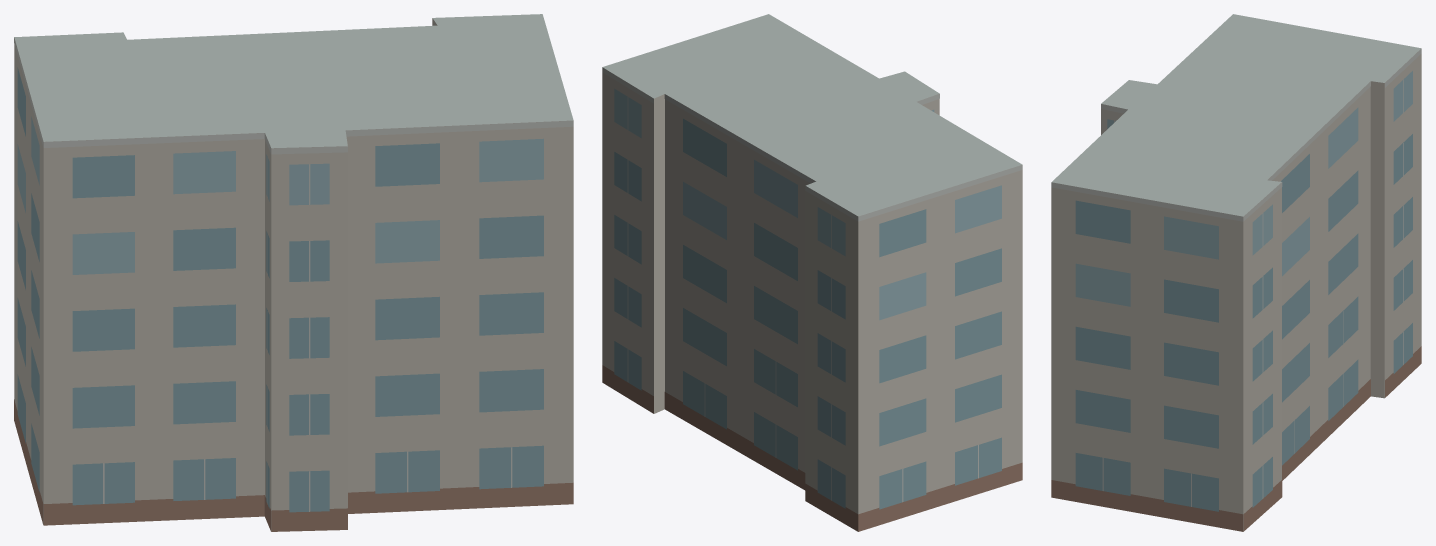
File: survey-upis-32512117.glb
3 renders of one model, left to right at view 1: azimuth 30°, elevation 25°; view 2: azimuth 150°, elevation 25°; view 3: azimuth 270°, elevation 25°, orthographic. The views are drawn at different scales.
Parts seen in each view (by area): view 1: survey-upis-32512117.tmp; view 2: survey-upis-32512117.tmp; view 3: survey-upis-32512117.tmp.
Part boxes in pixels (x1,y1,x2,y2): survey-upis-32512117.tmp: (14, 14, 573, 531); survey-upis-32512117.tmp: (602, 14, 1022, 531); survey-upis-32512117.tmp: (1051, 14, 1421, 531).
Size of the model in its own units: 20.68 by 15 by 15.97.
